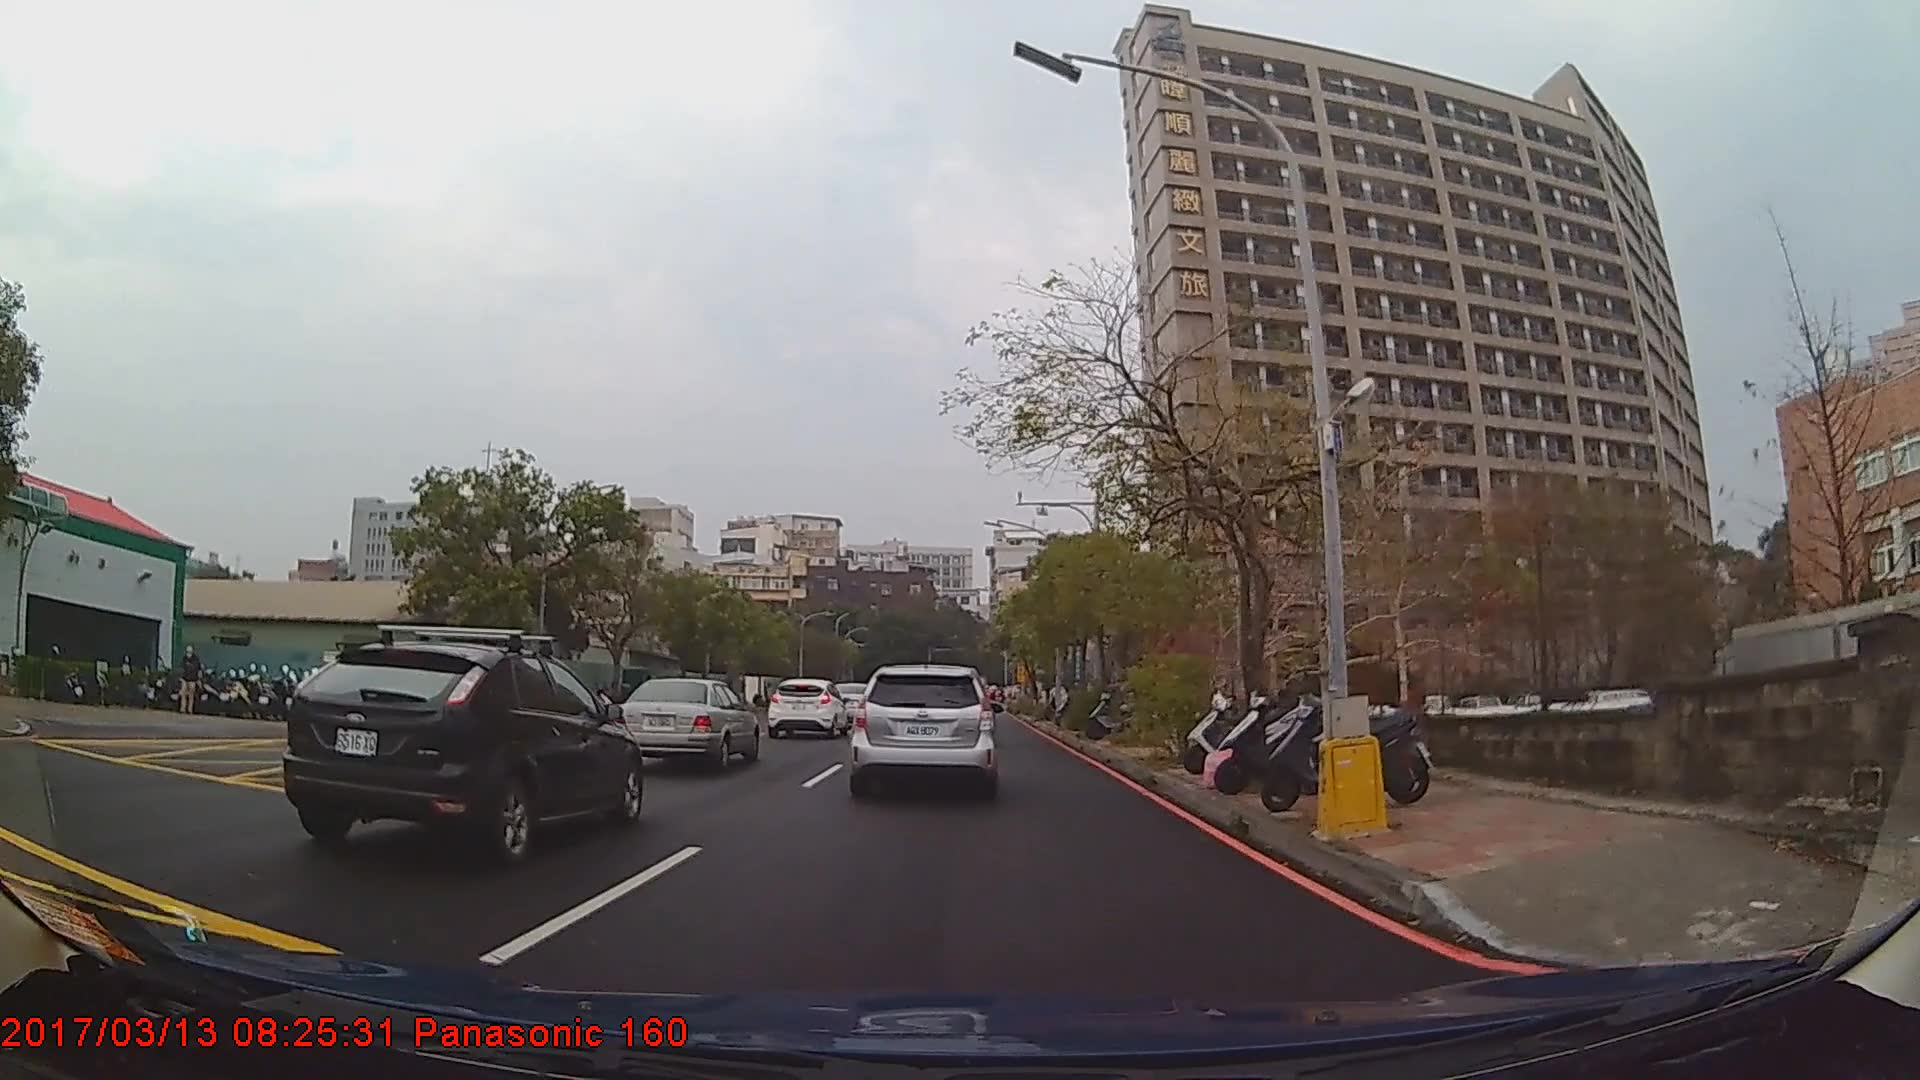pedestrian: (180, 645, 204, 716)
vehicle: (282, 638, 641, 857), (848, 661, 992, 795), (613, 675, 760, 772), (765, 676, 848, 737)
